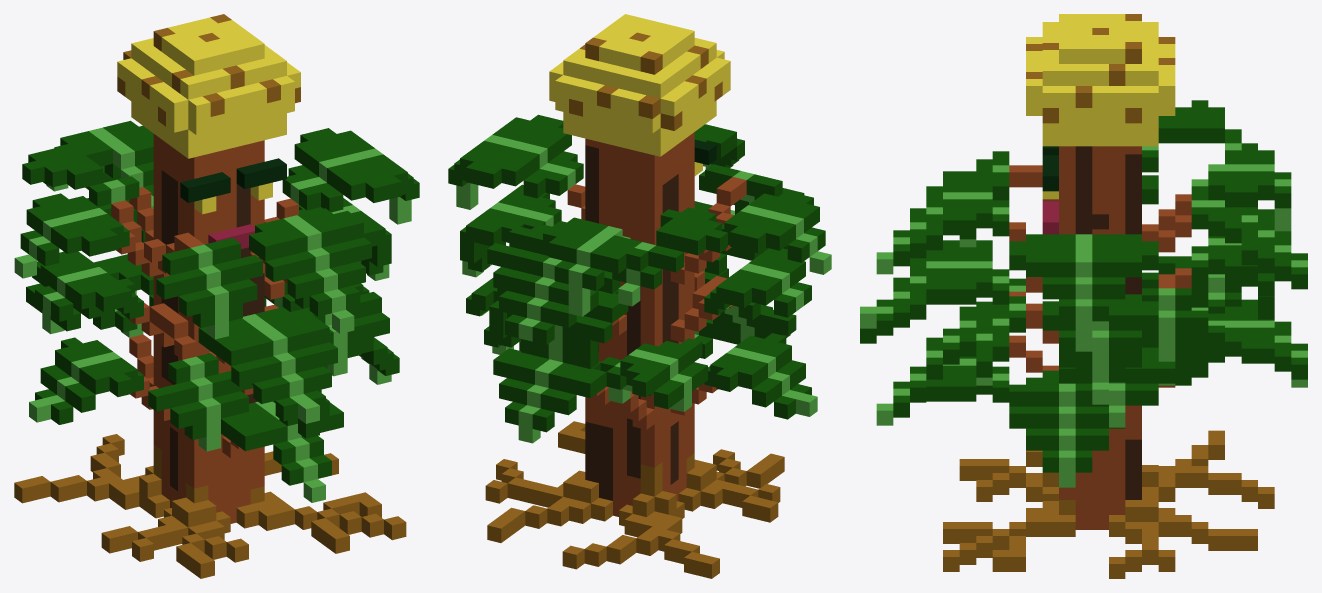
Rendered from Tomas_Marín_Ojeda_fase_4.obj.
3 renders of one model, left to right at view 1: azimuth 30°, elevation 25°; view 2: azimuth 150°, elevation 25°; view 3: azimuth 270°, elevation 25°, orthographic. The views are drawn at different scales.
Parts seen in each view (by area): view 1: Tomas_Marín_Ojeda_fase_4; view 2: Tomas_Marín_Ojeda_fase_4; view 3: Tomas_Marín_Ojeda_fase_4.
Part boxes in pixels (x1,y1,x2,y2): Tomas_Marín_Ojeda_fase_4: (14,14,419,578); Tomas_Marín_Ojeda_fase_4: (448,14,831,578); Tomas_Marín_Ojeda_fase_4: (860,14,1307,578).
Bounding box in the file's own units: 27 × 32 × 27.
Materials: 1 (1 with a texture image).
